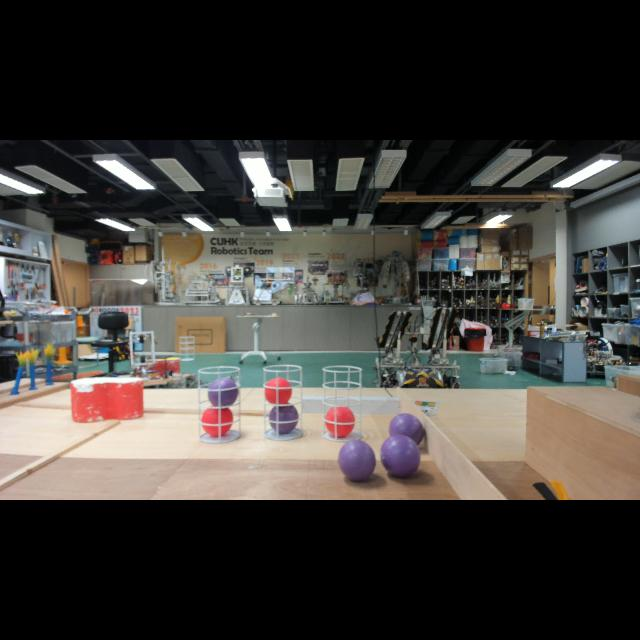P: (380, 434, 420, 476), (338, 439, 376, 481), (388, 414, 424, 448), (208, 377, 238, 409), (270, 404, 298, 434)
R: (201, 404, 233, 438), (325, 406, 355, 438), (264, 378, 292, 406)
S: (198, 366, 242, 444), (262, 364, 304, 442), (322, 366, 362, 442), (178, 335, 196, 361)
